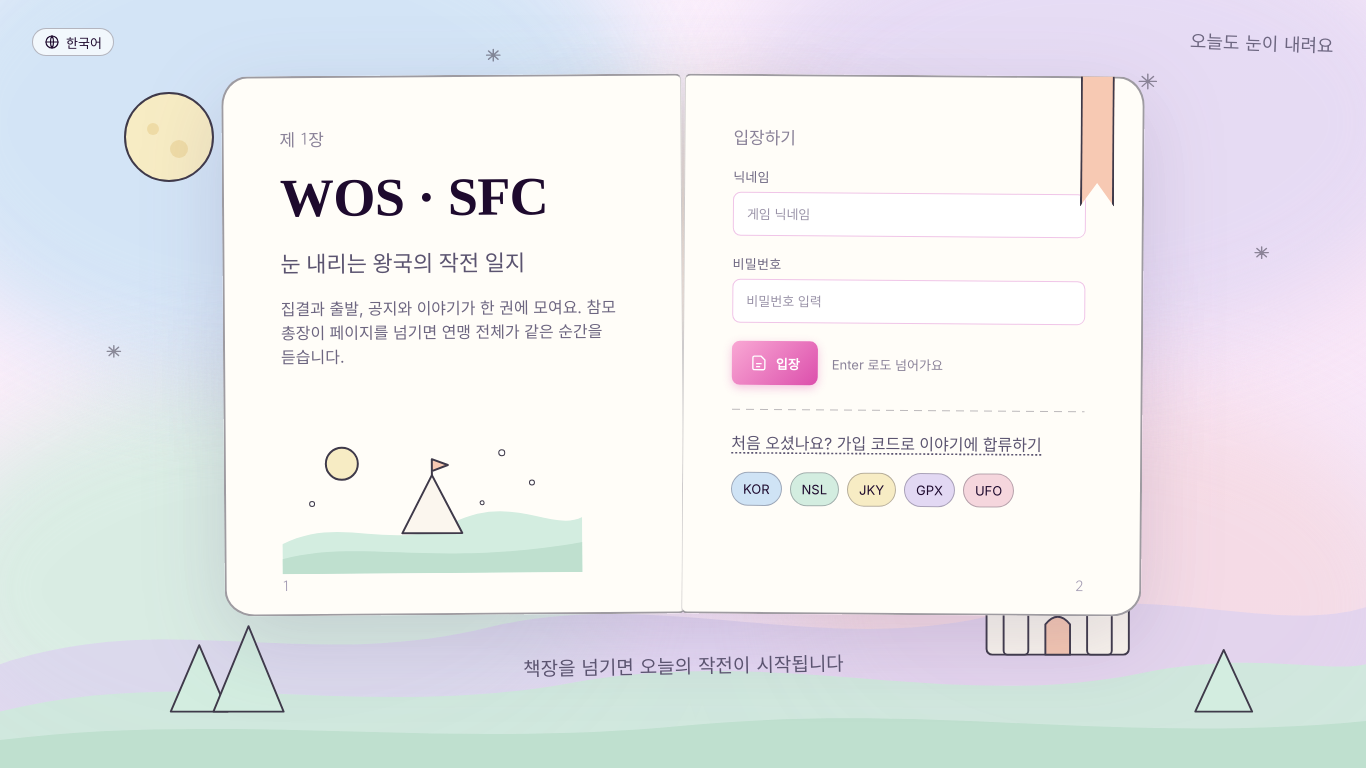
StoryEntrance › 가입 페이지에서 닉네임 규칙을 어기면 거부한다
Click the button "처음 오셨나요? 가입 코드로 이야기에 합류하기".
click(908, 442)  # box [731,429,1084,456]
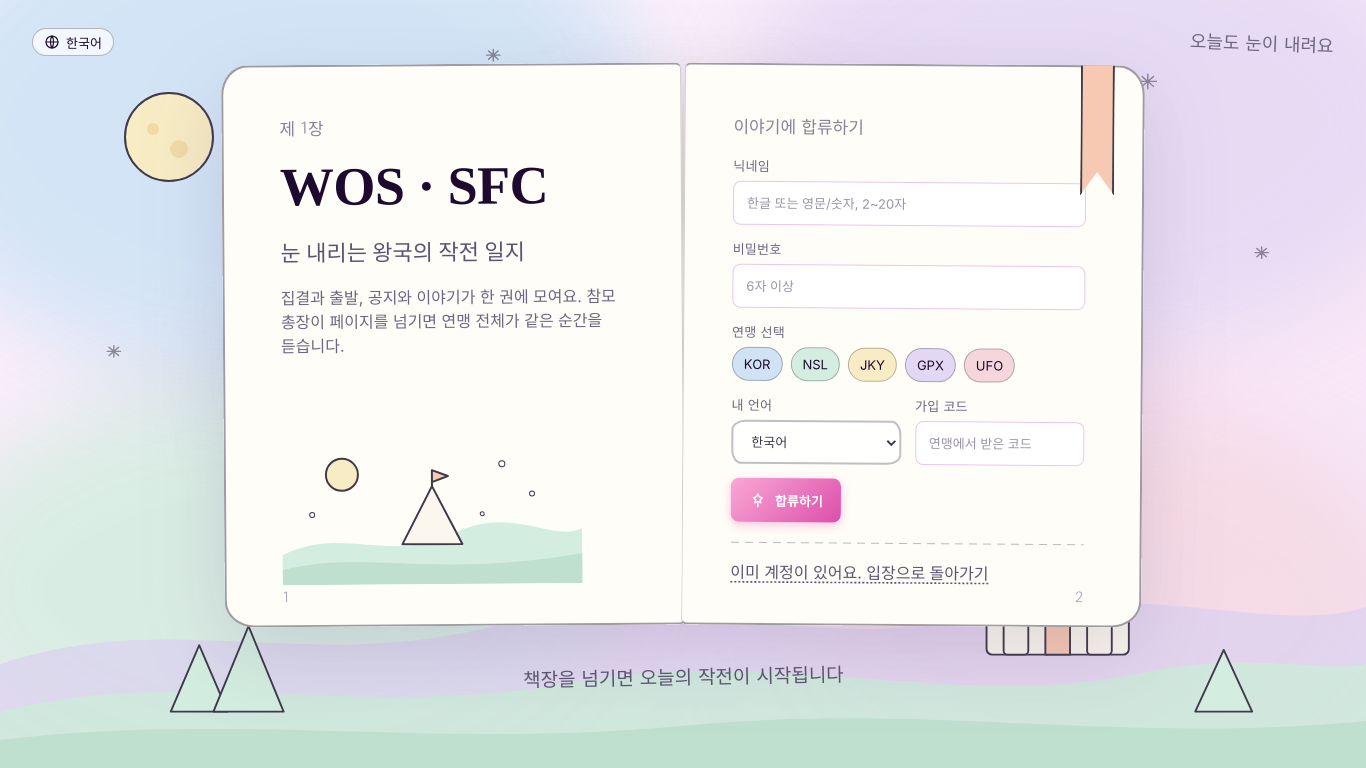
Type "a b" into the field labelled "닉네임".
click(909, 203); type("a b")  # box [733,180,1086,227]
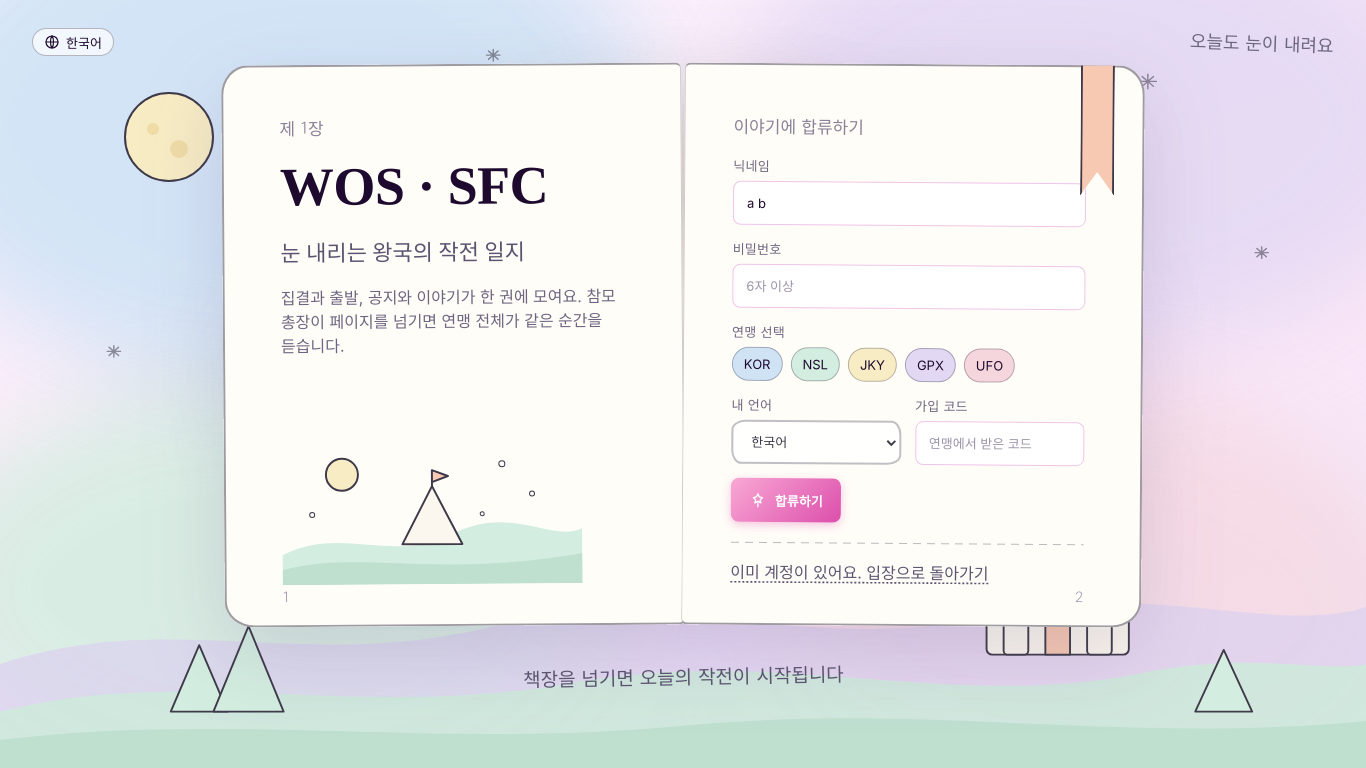
Type "secret1" into the password field labelled "비밀번호".
click(909, 286); type("secret1")  # box [732,263,1086,310]
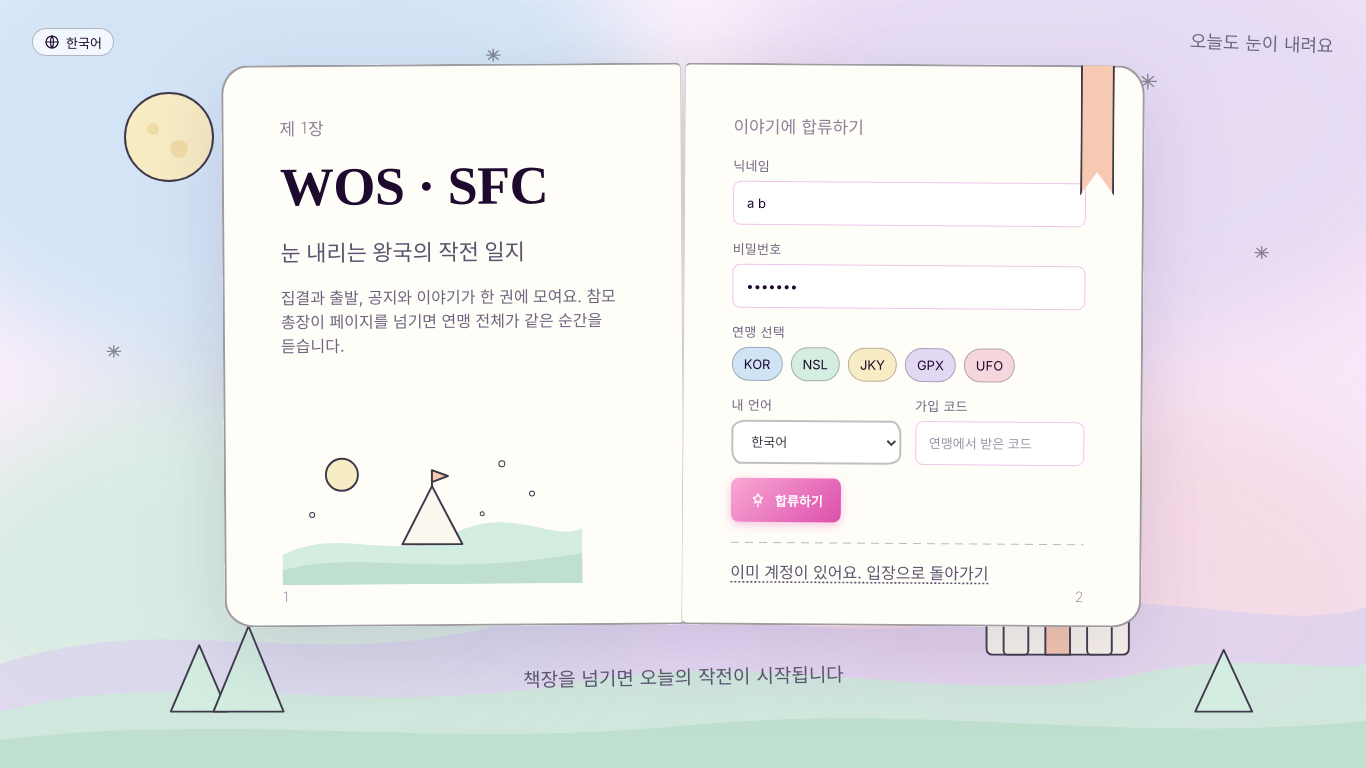
Click the button "KOR".
click(757, 363)  # box [732,346,782,381]
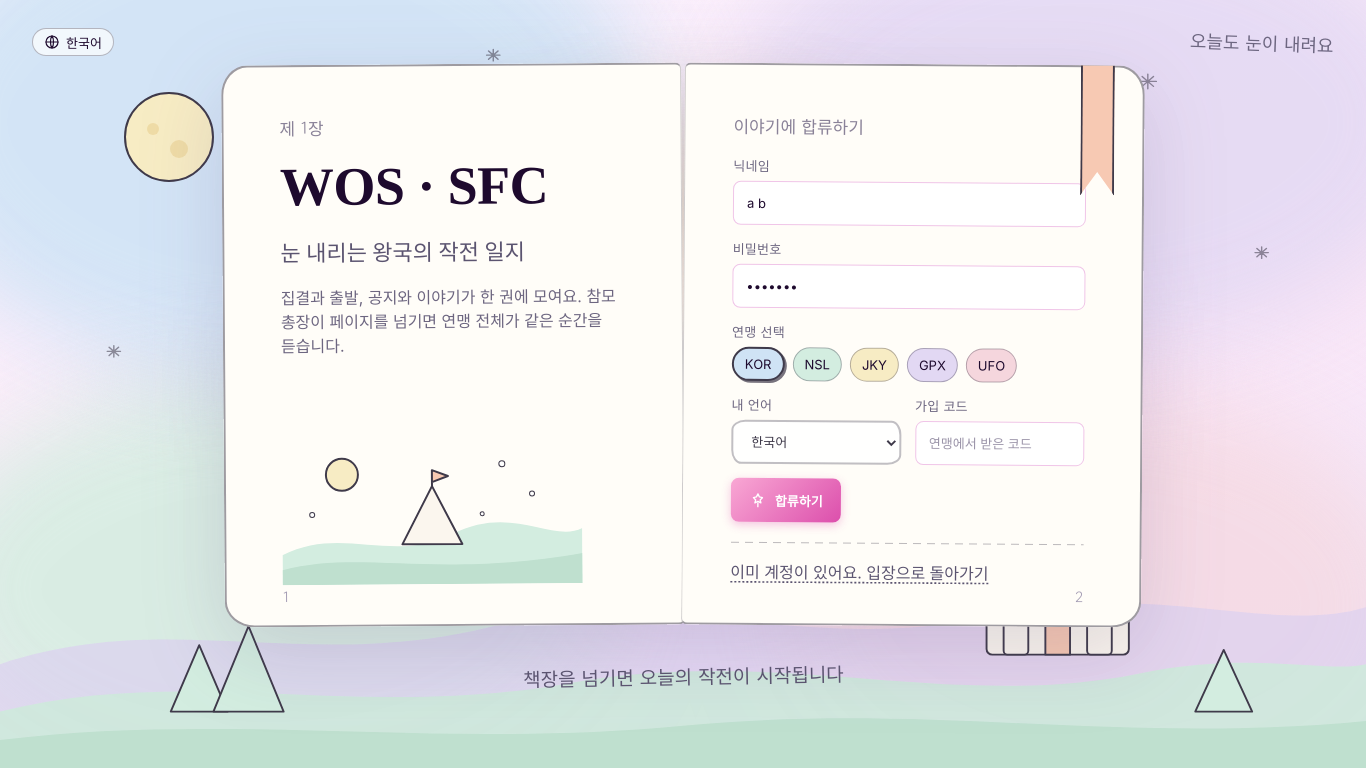
Type "code" into the field labelled "가입 코드".
click(1000, 443); type("code")  # box [915,420,1084,466]
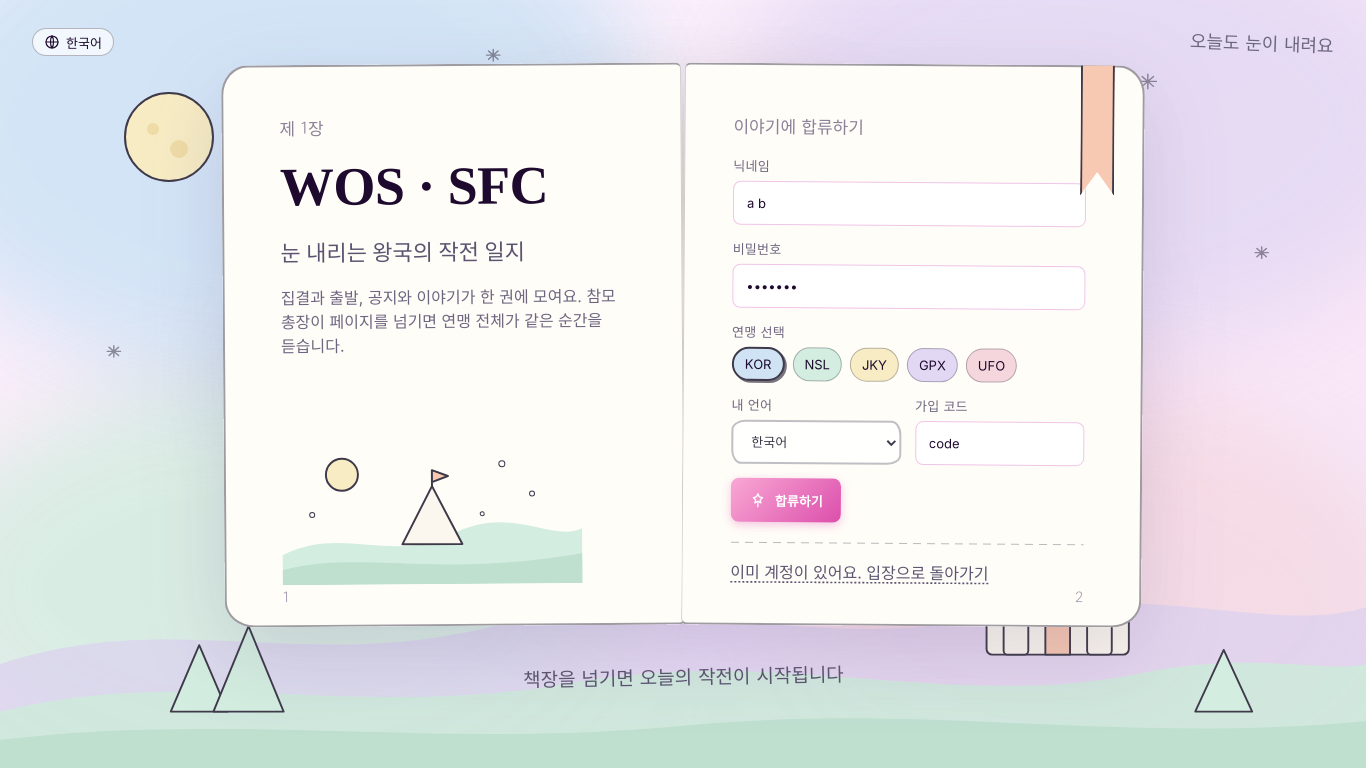
Click the button "합류하기".
click(786, 500)  # box [731,477,841,522]
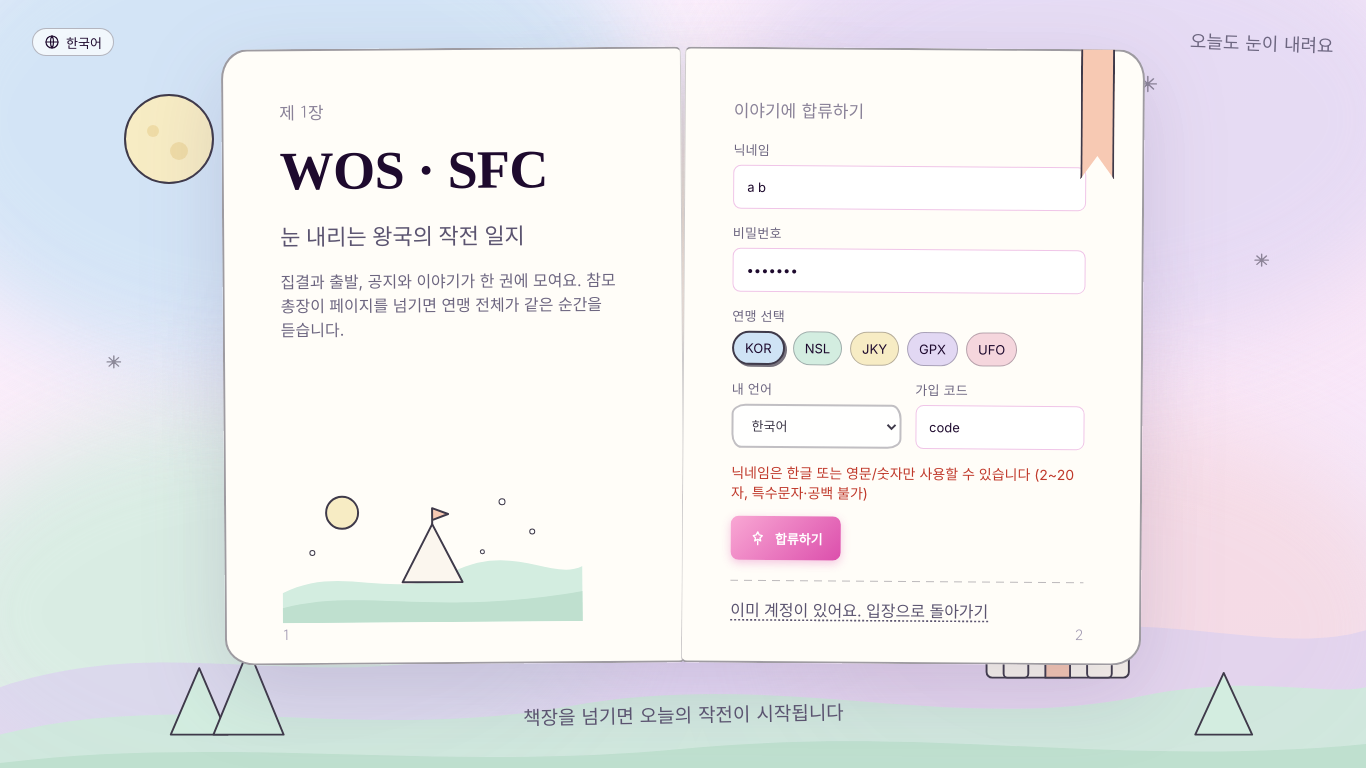
Expected: the text "닉네임은 한글 또는 영문/숫자만 사용할 수 있습니다 (2~20자, 특수문자·공백 불가)" is shown, [731,462,1084,504]
